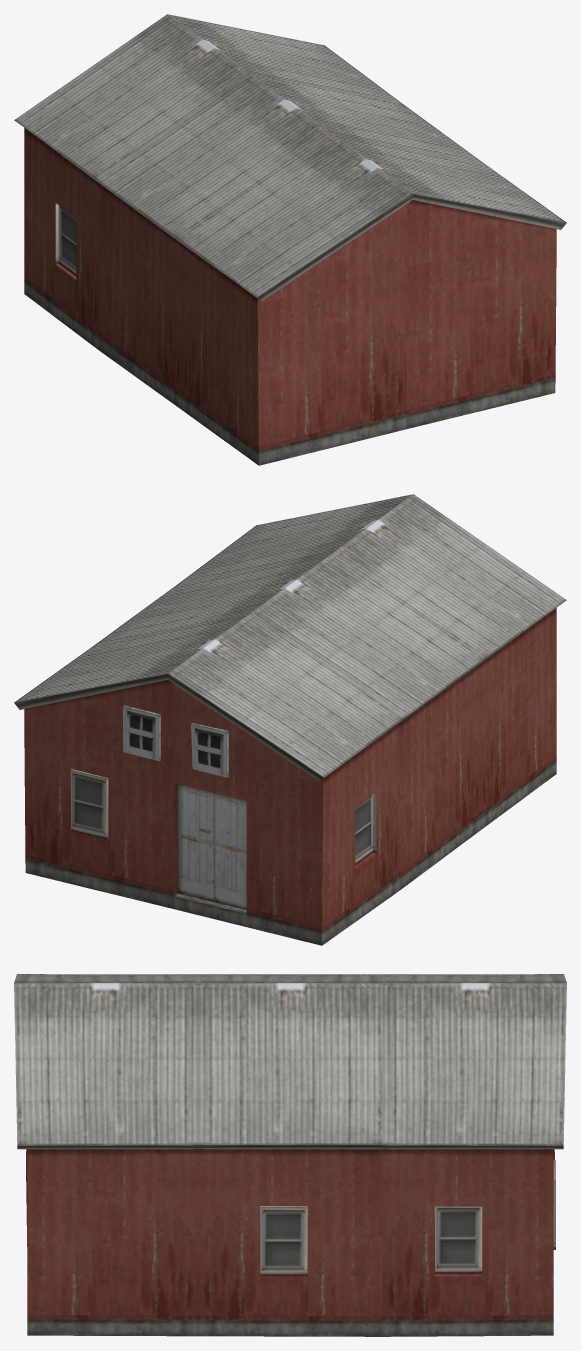
The model's file is barn01.glb.
The picture shows the model from 3 angles, top to bottom: view 1: azimuth 30°, elevation 25°; view 2: azimuth 150°, elevation 25°; view 3: azimuth 270°, elevation 25°; orthographic projection. The views are drawn at different scales.
Visible parts, largest first — view 1: barn01_elements_0; view 2: barn01_elements_0; view 3: barn01_elements_0.
Boxes of the visible parts, x1,y1,x2,y2 form: barn01_elements_0: (14,14,566,465); barn01_elements_0: (14,494,566,945); barn01_elements_0: (14,974,566,1336).
Bounding box in the file's own units: 7.45 × 5.5 × 10.19.
1 material, 1 textured.
